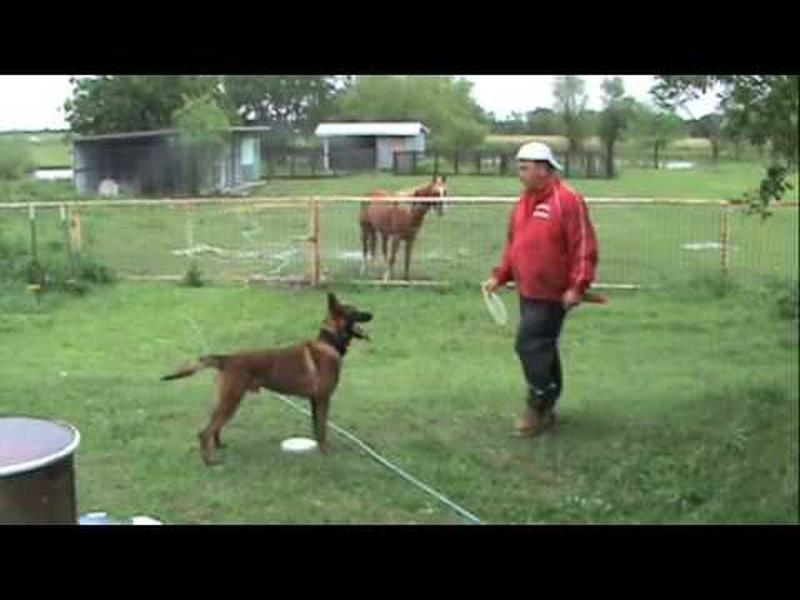dog_stand: (156, 290, 377, 475)
